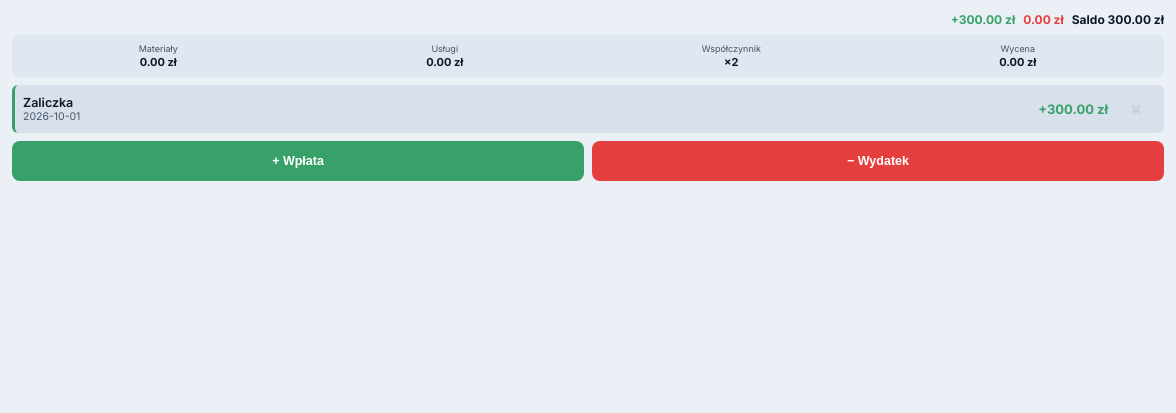
Test: ProjectCashLedger integration › keeps the editor open and shows a persistence error
Click the text "Zaliczka" at (48, 103), box x1=23 y1=95 x2=73 y2=110
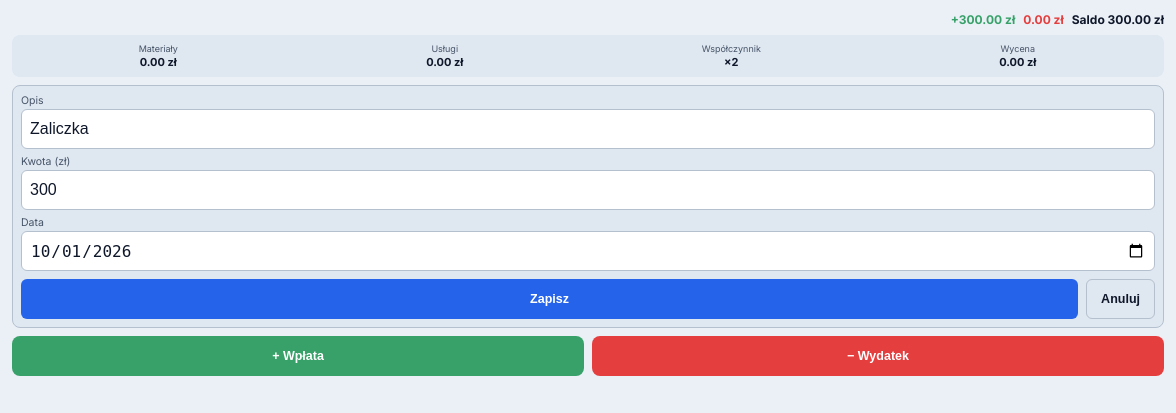
Click the button "Zapisz" at (550, 299), box x1=21 y1=279 x2=1078 y2=319
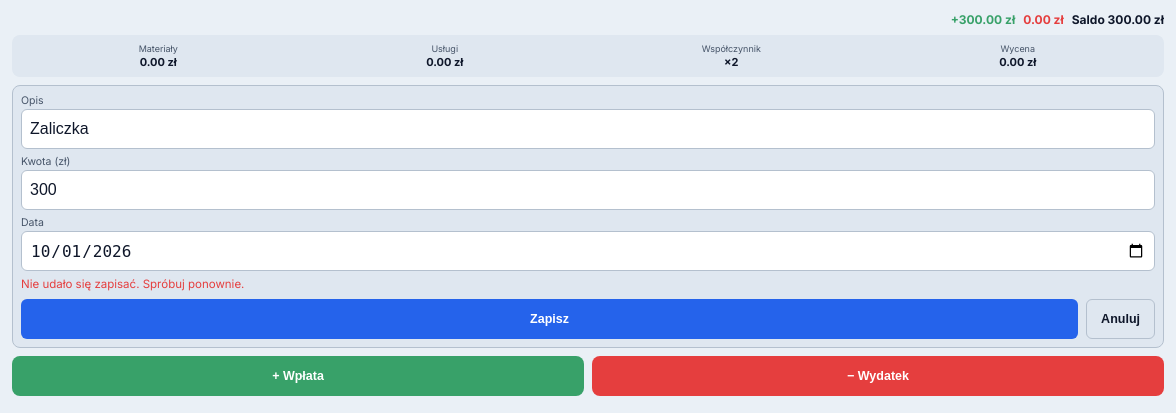
Expected: the field labelled "Opis" holds "Zaliczka", x1=21 y1=109 x2=1155 y2=149
Expected: the text "Nie udało się zapisać. Spróbuj ponownie." is shown, x1=21 y1=277 x2=244 y2=291
